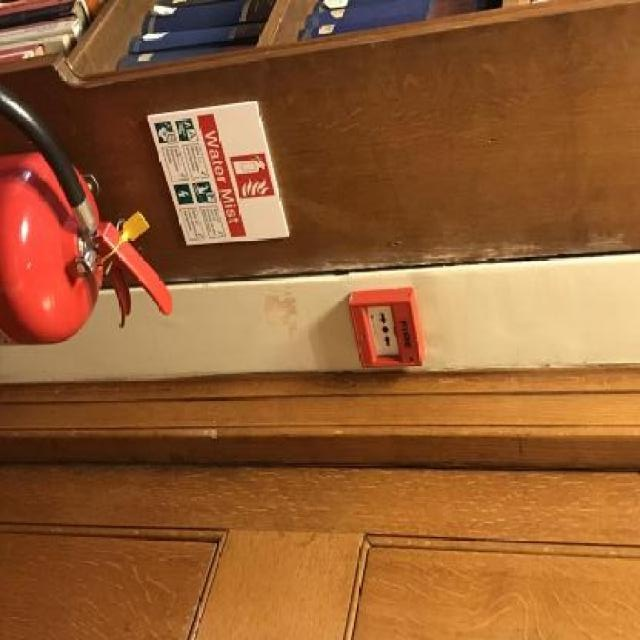fire extinguisher: (0, 83, 176, 371)
